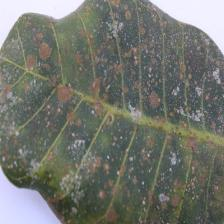red rust: (0, 0, 223, 223)
